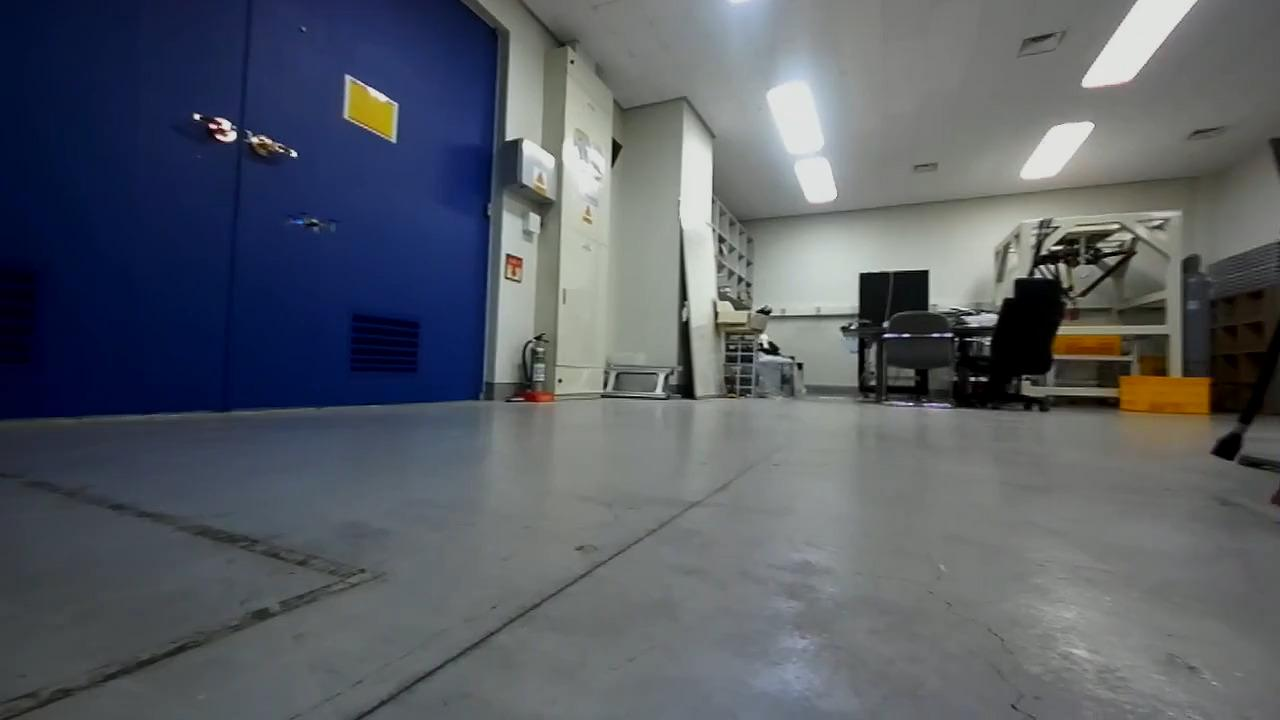crazyflie: (283, 211, 342, 237)
